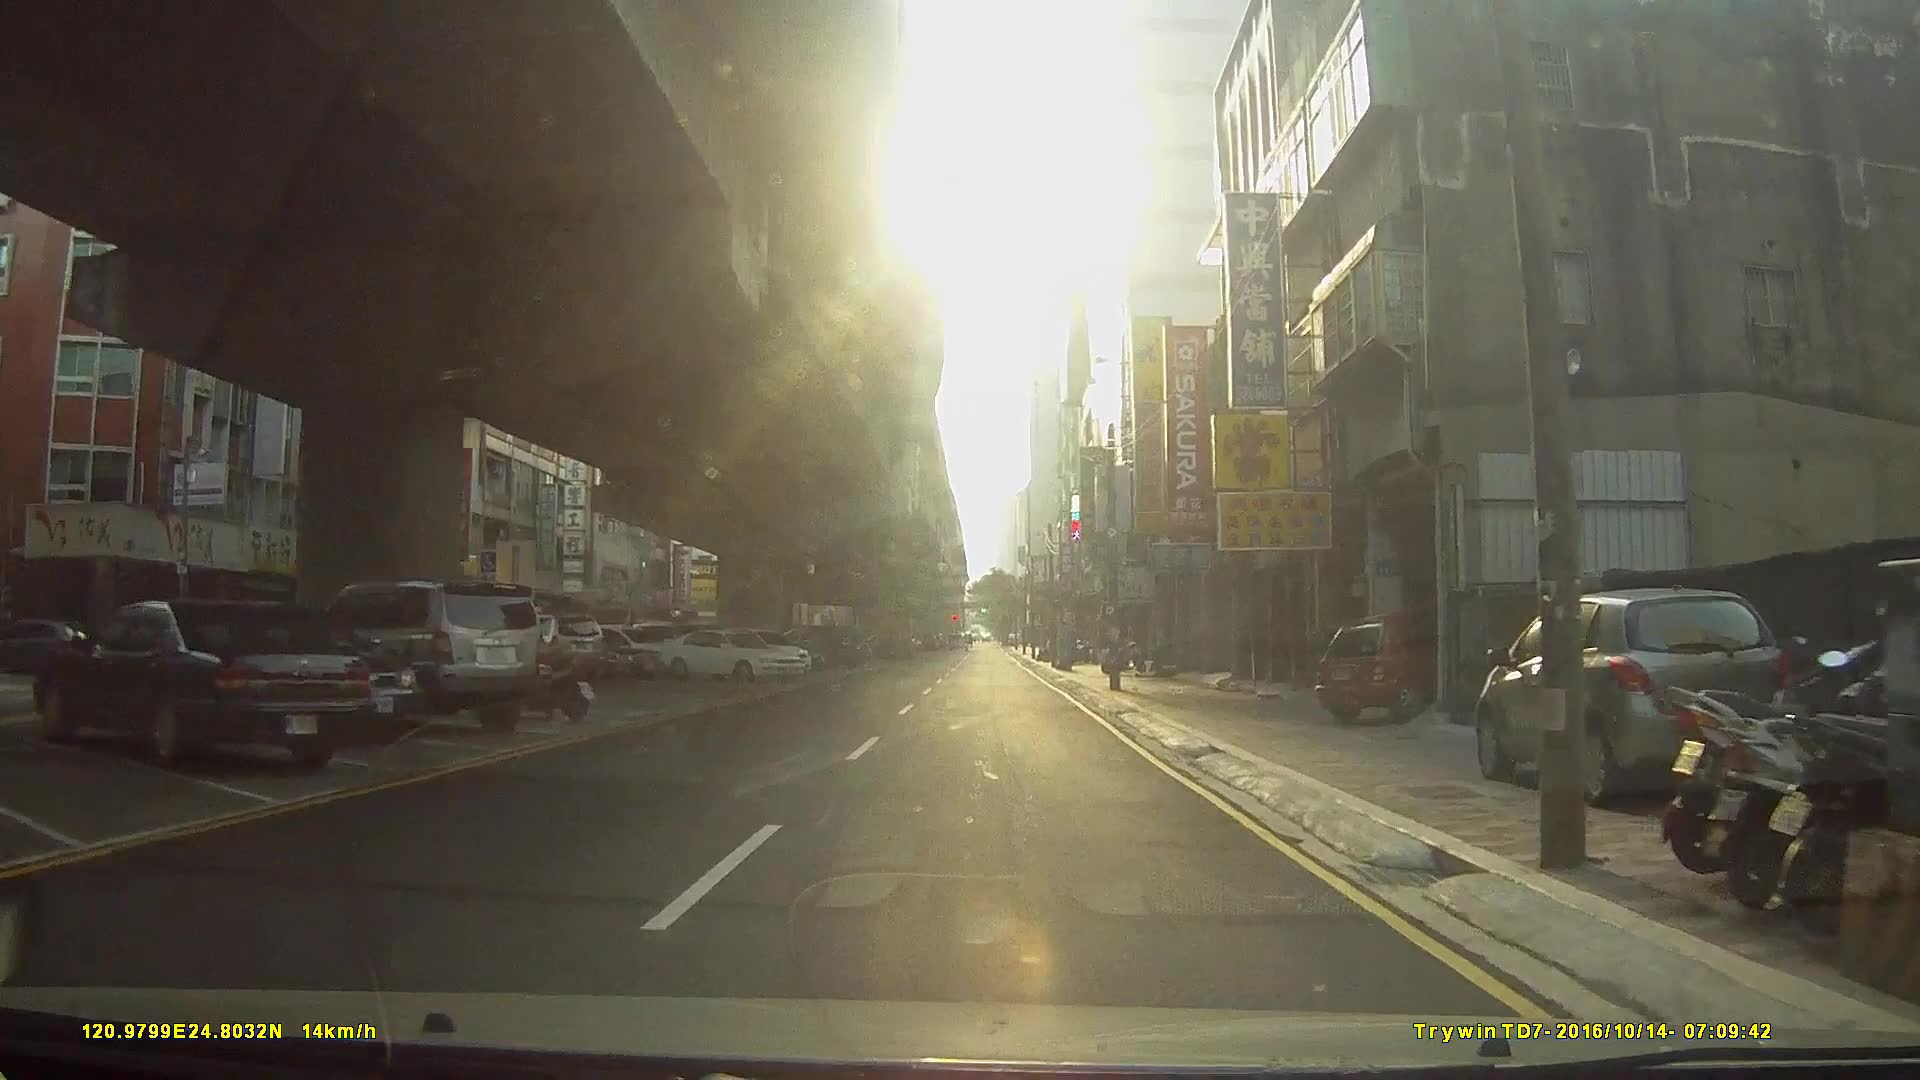vehicle: (1472, 582, 1797, 800), (33, 597, 375, 769), (299, 576, 550, 738), (1315, 608, 1484, 723), (653, 622, 807, 680), (495, 612, 605, 680), (0, 616, 90, 673)
